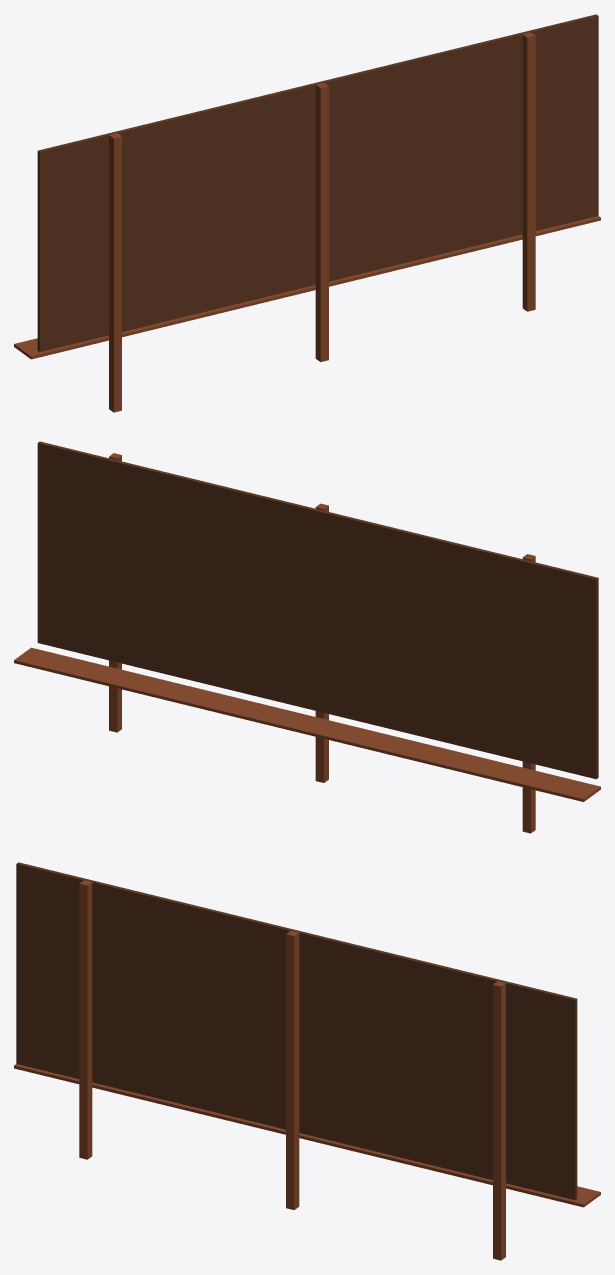
File: billboard_roof_b_lod1.glb
3 views of the same model, one above another, from view 1: azimuth 30°, elevation 25°; view 2: azimuth 150°, elevation 25°; view 3: azimuth 330°, elevation 25° (orthographic).
Visible parts, largest first — view 1: billboard_roof_b_lod1; view 2: billboard_roof_b_lod1; view 3: billboard_roof_b_lod1.
Part boxes in pixels (left/top/right/bottom): billboard_roof_b_lod1: left=14, top=14, right=600, bottom=412; billboard_roof_b_lod1: left=14, top=441, right=600, bottom=833; billboard_roof_b_lod1: left=14, top=862, right=600, bottom=1260.
Bounding box in the file's own units: 12.4 × 5.7 × 0.975.
2 materials, 2 textured.
